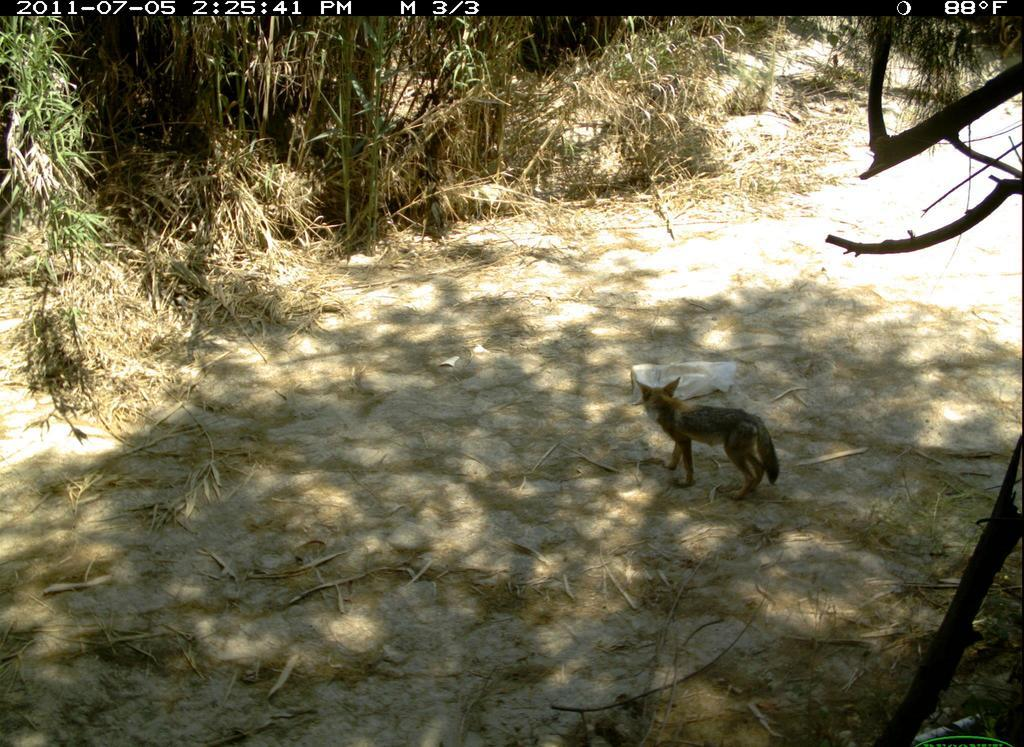coyote: (625, 373, 795, 514)
